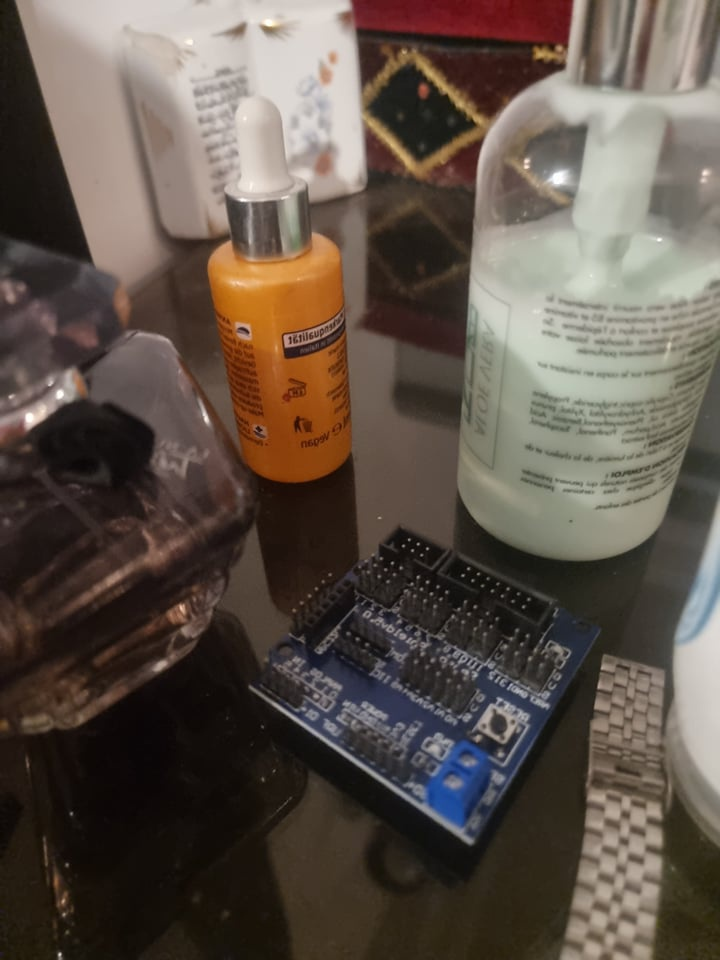5V EXPANSION: (244, 525, 604, 846)
